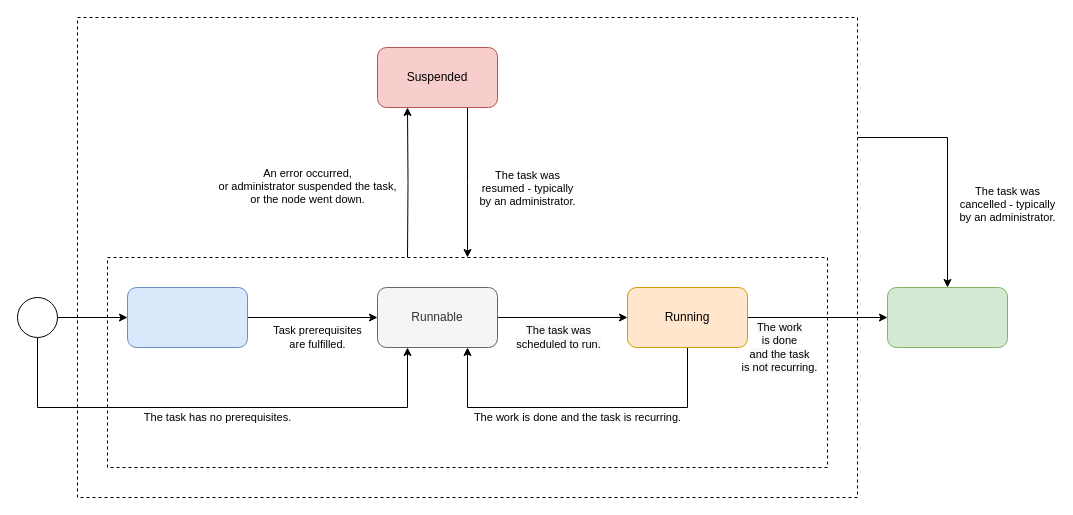
This 1073x515 diagram has some shape labels left out. Each missing label, with the centre of its shape:
"Closed" goes at (x=947, y=317).
"Waiting" goes at (x=187, y=317).
